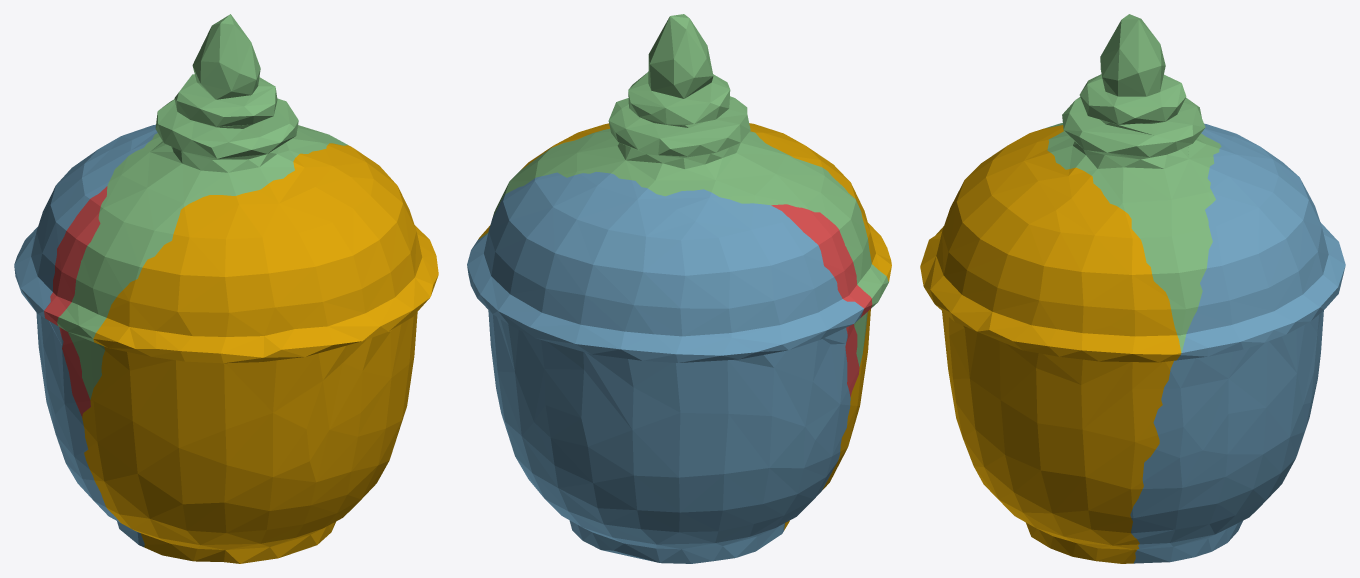
File: mode_3_4pcs.glb
The picture shows the model from 3 angles, left to right: view 1: azimuth 30°, elevation 25°; view 2: azimuth 150°, elevation 25°; view 3: azimuth 270°, elevation 25°; orthographic projection.
Parts seen in each view (by area): view 1: piece_0.obj, piece_3.obj, piece_2.obj, piece_1.obj; view 2: piece_2.obj, piece_3.obj, piece_0.obj, piece_1.obj; view 3: piece_0.obj, piece_2.obj, piece_3.obj.
Boxes of the visible parts, x1=… form: piece_0.obj: x1=82, y1=143, x2=438, y2=563; piece_3.obj: x1=57, y1=14, x2=347, y2=399; piece_2.obj: x1=14, y1=124, x2=157, y2=547; piece_1.obj: x1=44, y1=186, x2=107, y2=417; piece_2.obj: x1=467, y1=171, x2=863, y2=563; piece_3.obj: x1=478, y1=14, x2=888, y2=366; piece_0.obj: x1=478, y1=123, x2=891, y2=530; piece_1.obj: x1=771, y1=204, x2=872, y2=396; piece_0.obj: x1=920, y1=125, x2=1181, y2=563; piece_2.obj: x1=1130, y1=123, x2=1345, y2=563; piece_3.obj: x1=1045, y1=14, x2=1221, y2=352.
Size of the model in its own units: 0.7658 by 1 by 0.767.
